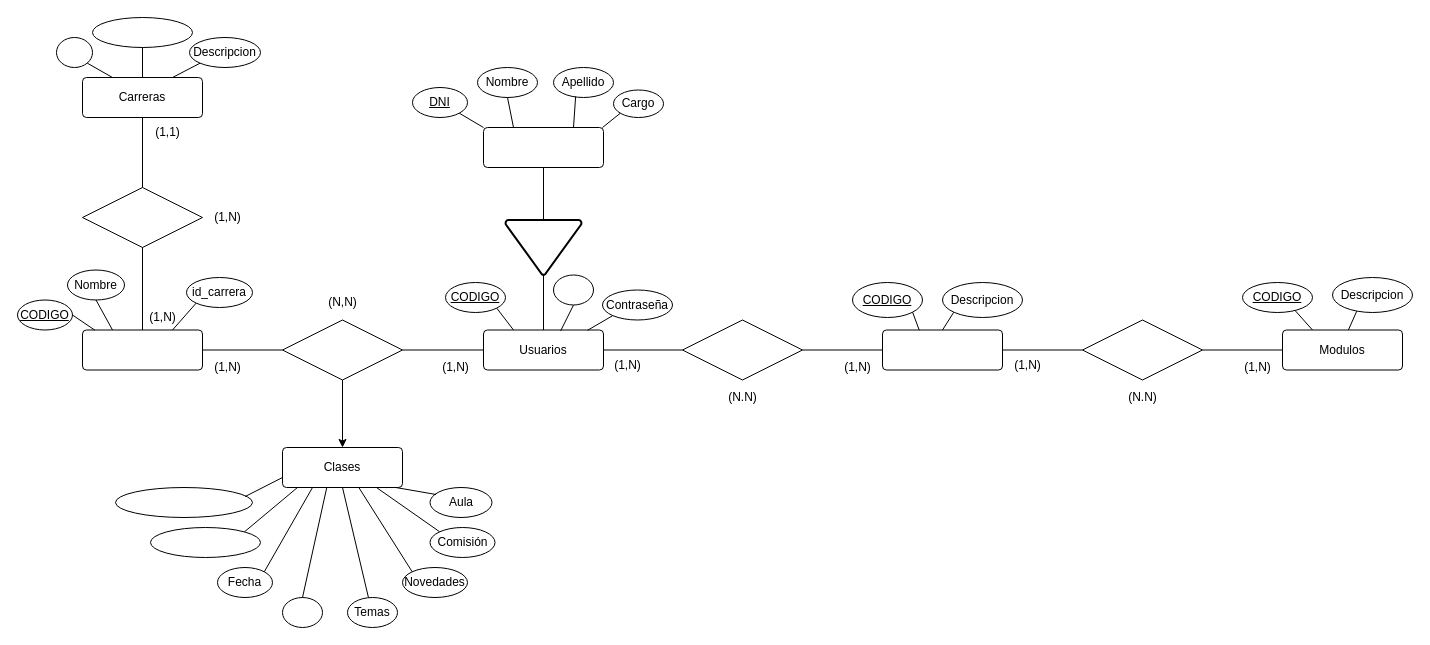
Image size: 1430x645. Some labels were removed from this diagram. The shapes that lost their labels are listed below. From the top down, each one's centre as x and y in pixels, then its label:
pixel 74 52: ID
pixel 142 32: Titulo_abreviado
pixel 543 147: Persona
pixel 543 247: ES
pixel 573 289: Mail
pixel 142 349: Materias
pixel 742 349: UsuXRol
pixel 942 349: Roles
pixel 1142 349: RolXMod
pixel 183 502: CODIGO_USUARIO
pixel 205 542: CODIGO_MATERIA
pixel 302 612: Hora
